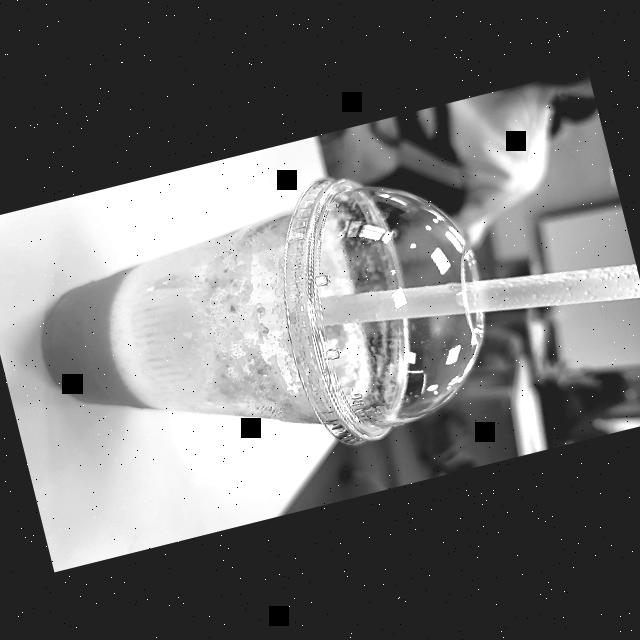plastic_cup: (11, 138, 520, 519)
plastic_cup_lid: (252, 146, 515, 458)
straw: (321, 223, 640, 371)
